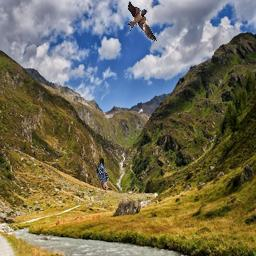Swallow: (122, 1, 158, 41)
Woodpecker: (97, 158, 112, 190)
